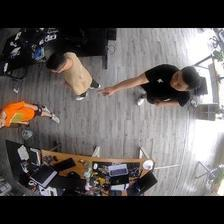normal: (100, 64, 198, 106), (47, 51, 102, 100), (1, 99, 60, 130)
